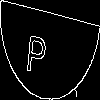P: (25, 24, 48, 76)
